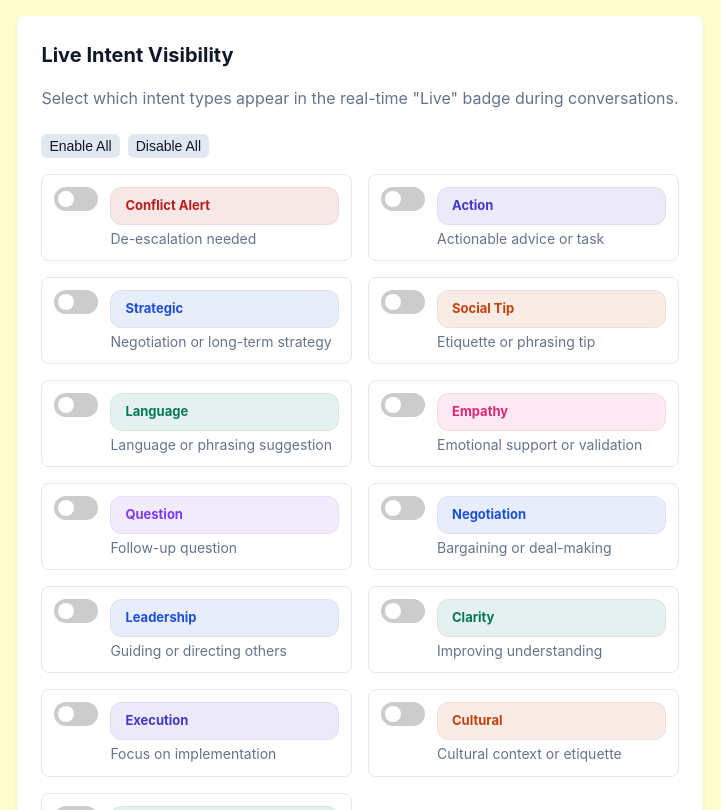
Scenario: IntentFilterSettings › handles enable all button correctly
The width and height of the screenshot is (721, 810).
Expected: the checkbox named "Conflict Alert" is not checked, [54, 187, 98, 211]
Expected: the checkbox named "Action" is not checked, [381, 187, 425, 211]
Step 1. Click the button "Enable All" → {"x": 81, "y": 146}, box [41, 134, 120, 158]
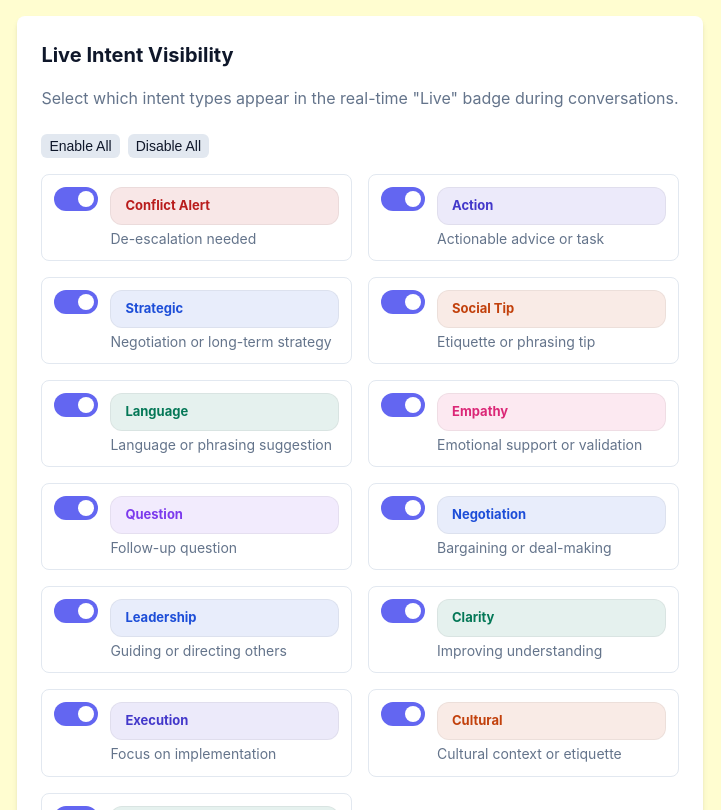
Expected: the checkbox named "Conflict Alert" is checked, [54, 187, 98, 211]
Expected: the checkbox named "Action" is checked, [381, 187, 425, 211]
Expected: the checkbox named "Strategic" is checked, [54, 290, 98, 314]
